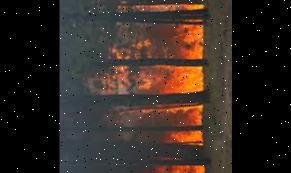fire: (166, 104, 201, 146), (159, 66, 203, 96), (178, 23, 202, 58), (142, 4, 204, 10)
